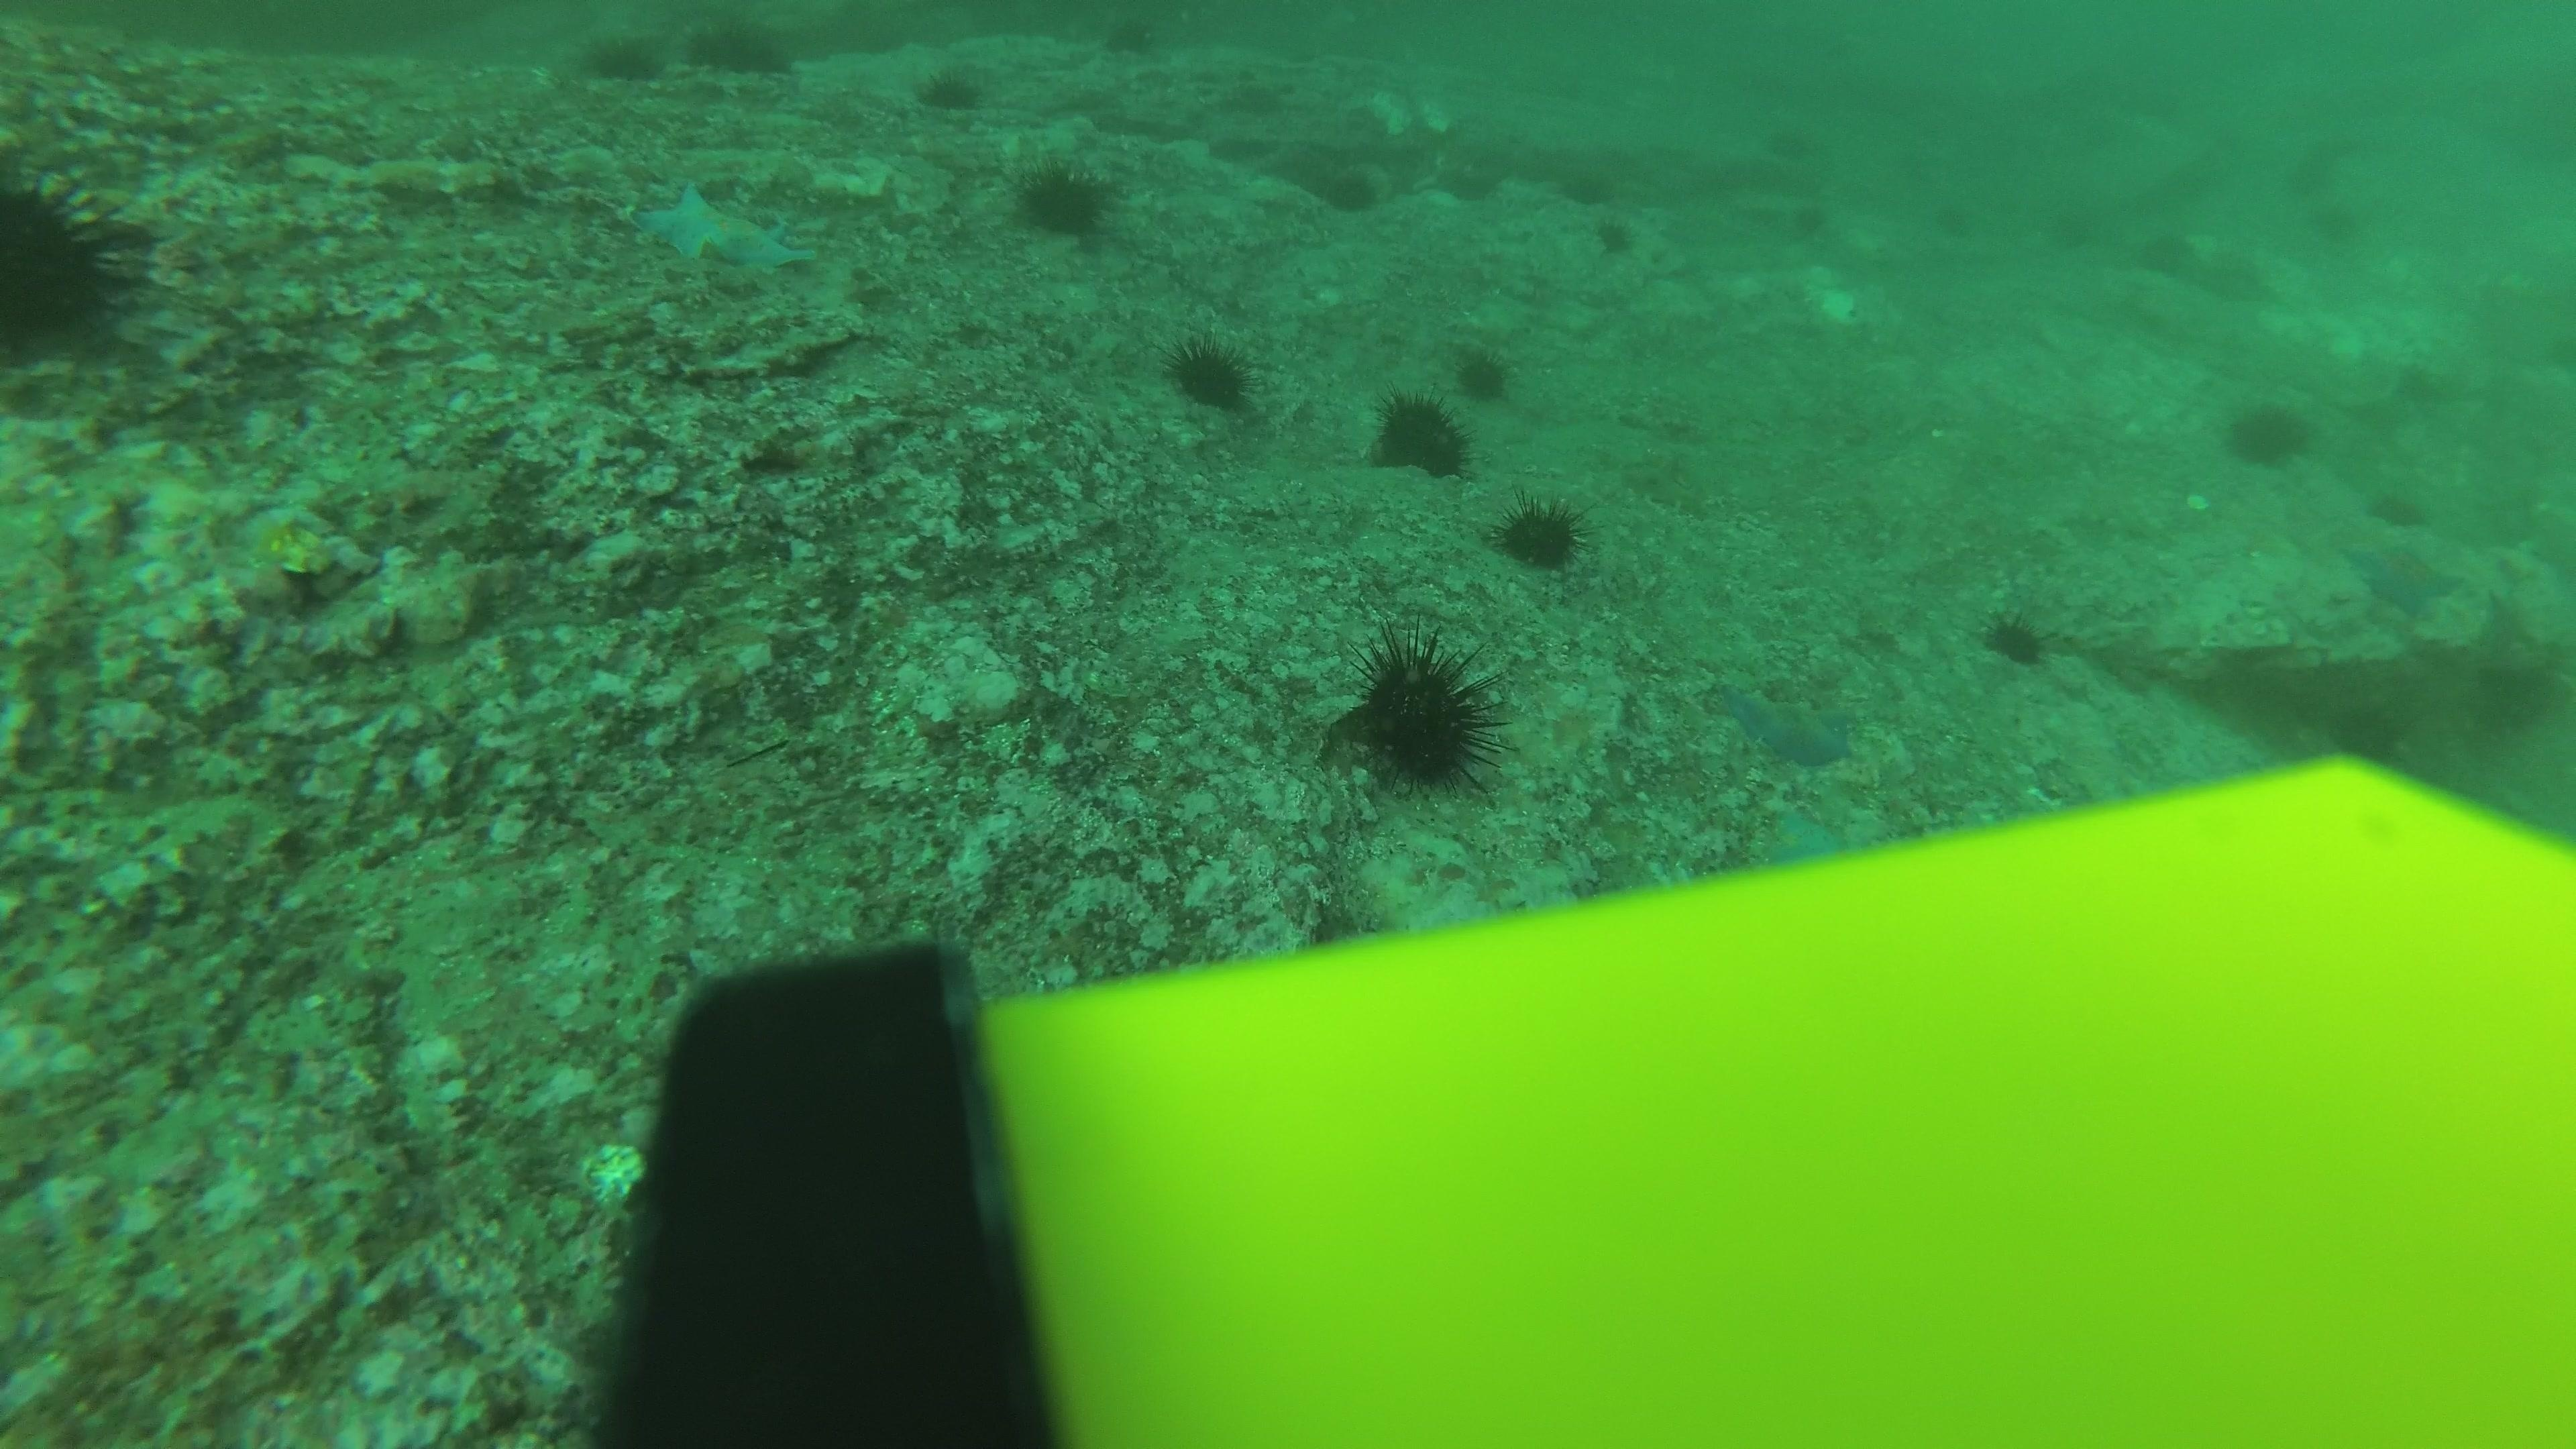echinus: (2, 161, 149, 366), (1343, 632, 1504, 796), (1369, 389, 1472, 479), (1014, 154, 1116, 241), (1493, 494, 1587, 571), (1166, 333, 1254, 412), (2227, 393, 2318, 469), (688, 16, 793, 78), (1980, 603, 2052, 669), (582, 30, 662, 83), (1318, 159, 1385, 216), (916, 62, 985, 115), (1453, 341, 1513, 402), (1102, 12, 1162, 60), (2371, 487, 2427, 531), (2141, 235, 2197, 280), (2307, 200, 2364, 244), (2277, 156, 2334, 200), (1592, 207, 1640, 255), (1759, 120, 1808, 166), (2052, 219, 2097, 257), (1934, 203, 1978, 241), (1775, 203, 1819, 241), (1564, 177, 1606, 214), (1136, 64, 1175, 88), (1230, 65, 1258, 87), (1277, 80, 1306, 101), (1189, 64, 1217, 85)
starfish: (628, 175, 816, 280), (1713, 676, 1863, 770), (2339, 531, 2468, 619), (1755, 801, 1852, 863)
